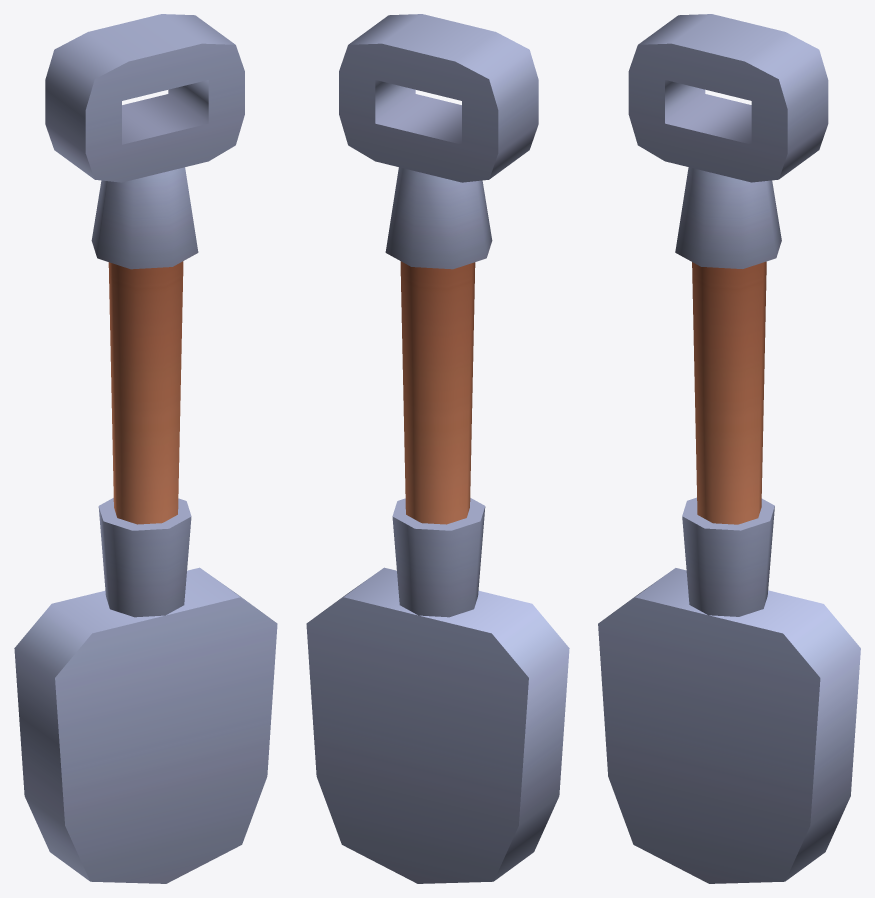
File: kenney-pirate-tool-shovel.glb
The picture shows the model from 3 angles, left to right: view 1: azimuth 30°, elevation 25°; view 2: azimuth 150°, elevation 25°; view 3: azimuth 330°, elevation 25°; orthographic projection.
Parts seen in each view (by area): view 1: tool-shovel; view 2: tool-shovel; view 3: tool-shovel.
Boxes of the visible parts, <box> form: tool-shovel: <box>14,14,277,883</box>; tool-shovel: <box>306,14,569,883</box>; tool-shovel: <box>598,14,860,883</box>.
Size of the model in its own units: 0.6579 by 2.35 by 0.2828.
1 material, 1 textured.
